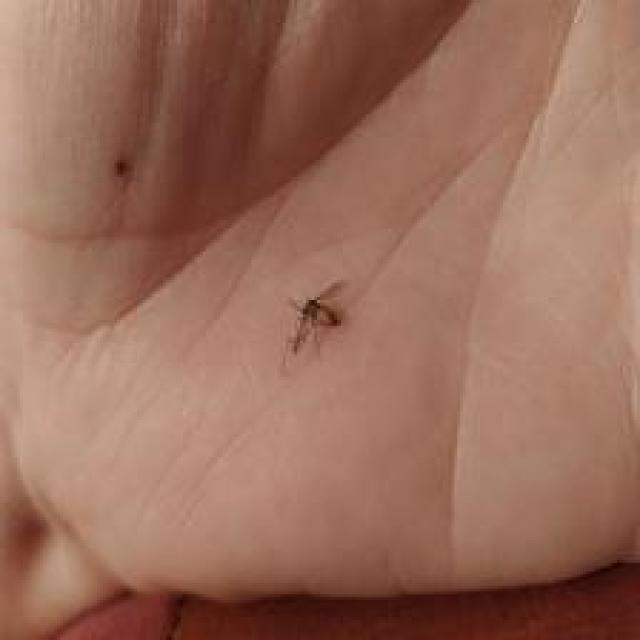Culex: (284, 280, 344, 357)
